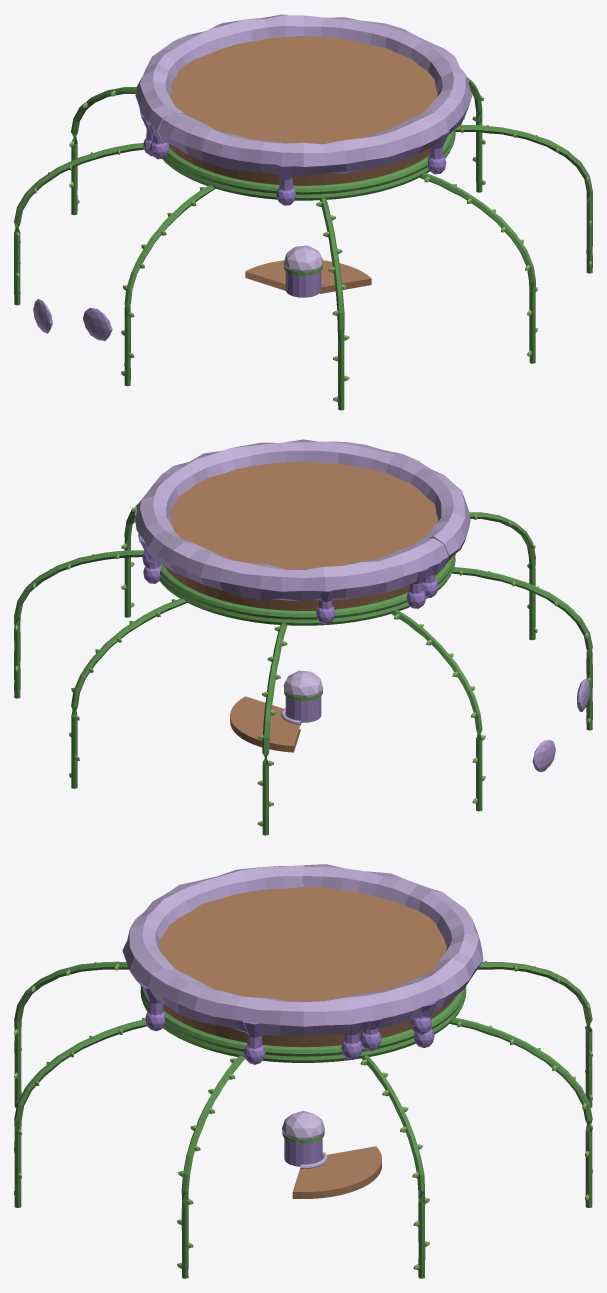
The model's file is goo_jar_trim_3_top@mushroom.fbx.
The picture shows the model from 3 angles, top to bottom: view 1: azimuth 30°, elevation 25°; view 2: azimuth 150°, elevation 25°; view 3: azimuth 270°, elevation 25°; orthographic projection. The views are drawn at different scales.
Parts seen in each view (by area): view 1: goo_jar_trim_3_top; view 2: goo_jar_trim_3_top; view 3: goo_jar_trim_3_top.
Part boxes in pixels (left/top/right/bottom): goo_jar_trim_3_top: left=14, top=14, right=592, bottom=410; goo_jar_trim_3_top: left=14, top=439, right=592, bottom=835; goo_jar_trim_3_top: left=14, top=864, right=592, bottom=1278.
Size of the model in its own units: 47.28 by 20.21 by 45.3.
